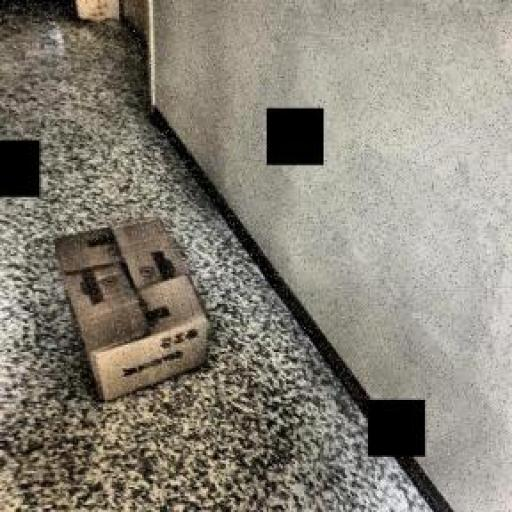box: (47, 202, 218, 404)
